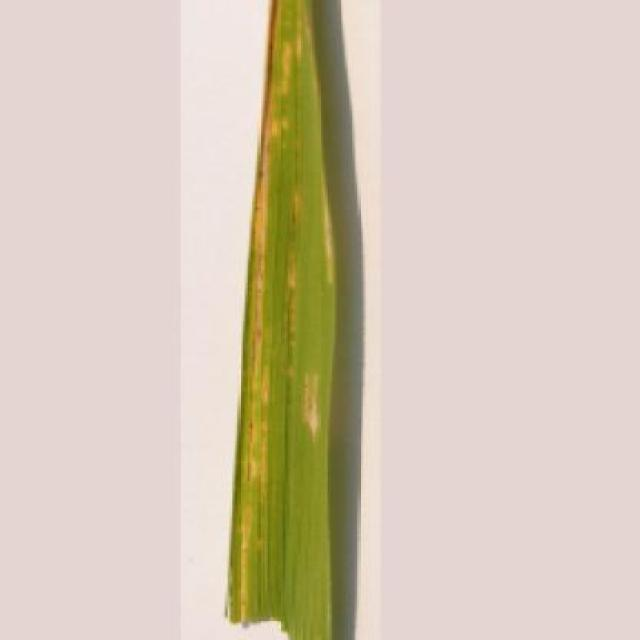Brown_Spot: (225, 0, 342, 640)
